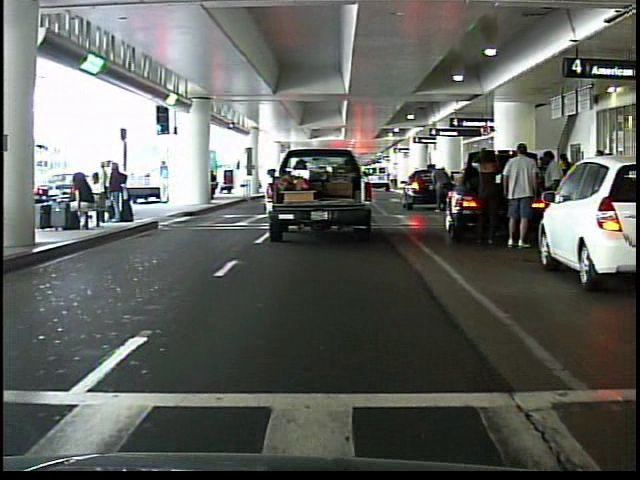person: (500, 140, 539, 250), (467, 140, 504, 253), (537, 144, 566, 252), (425, 157, 451, 217), (157, 159, 173, 204)
